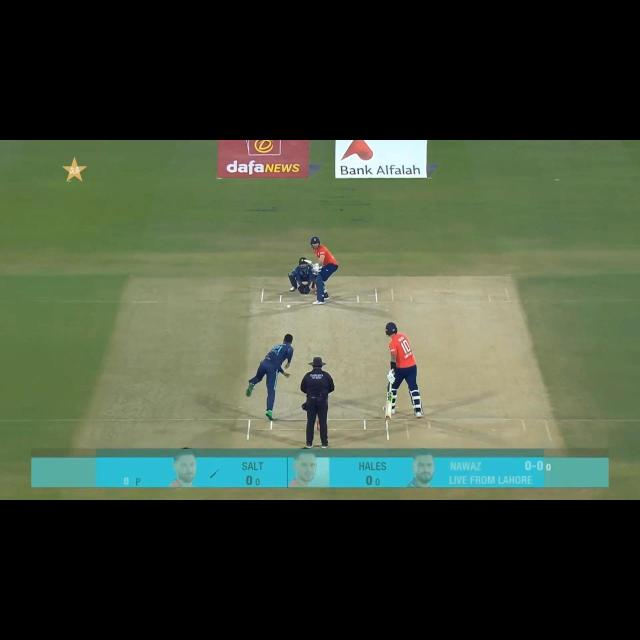bat: (385, 392, 393, 420), (303, 258, 314, 266)
toe: (303, 259, 308, 263), (386, 415, 391, 419)
